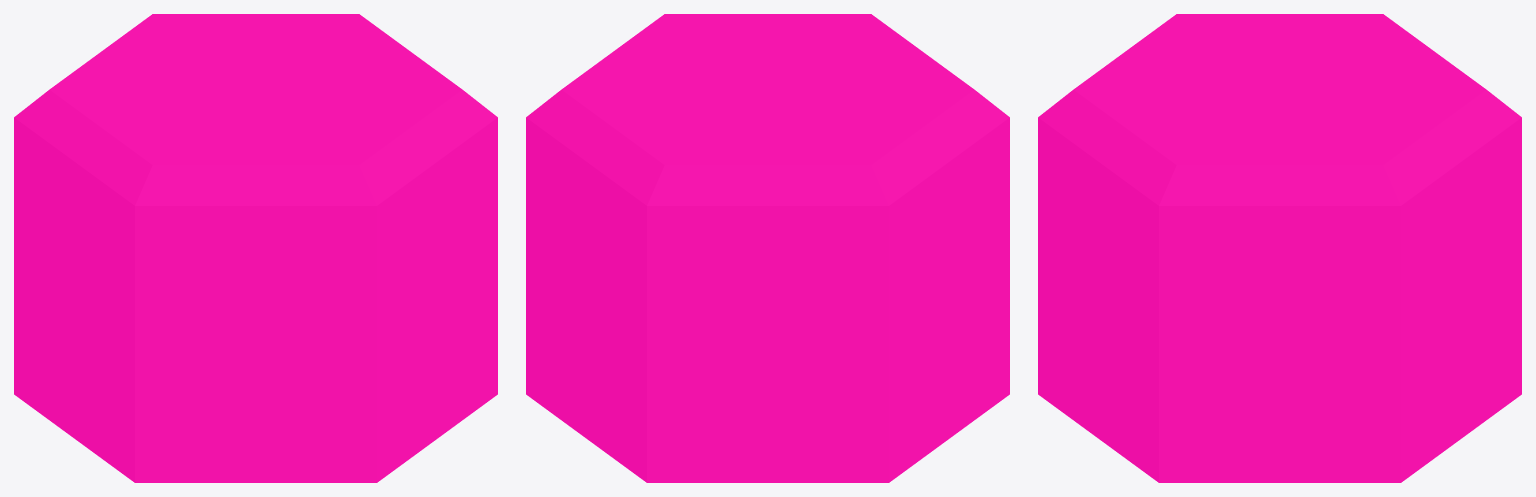
Rendered from 00_hexshape_mockup.glb.
The picture shows the model from 3 angles, left to right: view 1: azimuth 30°, elevation 25°; view 2: azimuth 150°, elevation 25°; view 3: azimuth 270°, elevation 25°; orthographic projection.
Visible parts, largest first — view 1: Cylinder; view 2: Cylinder; view 3: Cylinder.
Part boxes in pixels (x1=…): Cylinder: x1=14, y1=14, x2=497, y2=482; Cylinder: x1=526, y1=14, x2=1009, y2=482; Cylinder: x1=1038, y1=14, x2=1521, y2=482.
Bounding box in the file's own units: 1.73 × 1.39 × 2.
